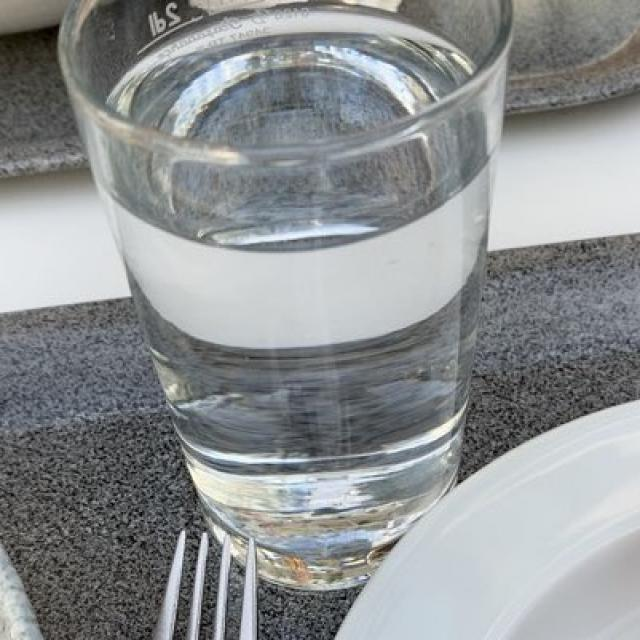water: (81, 10, 474, 573)
